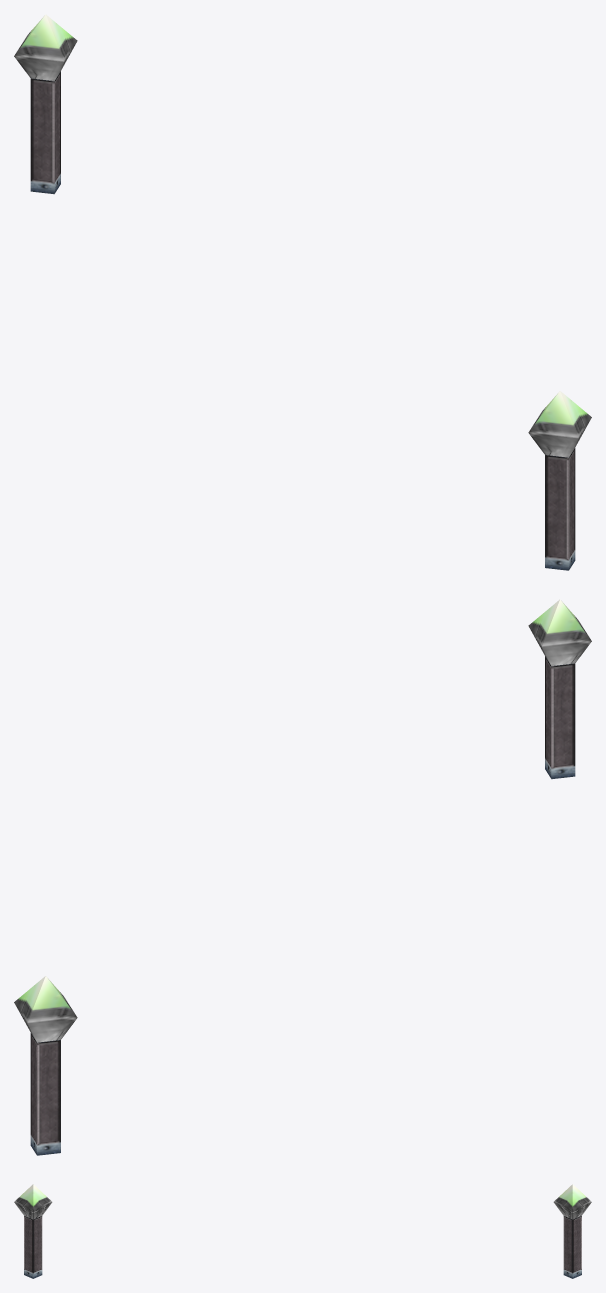
The model's file is tesla03.glb.
3 views of the same model, one above another, from view 1: azimuth 30°, elevation 25°; view 2: azimuth 150°, elevation 25°; view 3: azimuth 270°, elevation 25° (orthographic). The views are drawn at different scales.
Visible parts, largest first — view 1: tesla03; view 2: tesla03; view 3: tesla03.
Part boxes in pixels (x1,y1,x2,y2): tesla03: (14,14,591,570); tesla03: (14,599,591,1155); tesla03: (14,1184,591,1278).
Size of the model in its own units: 32.92 by 85.86 by 494.
Materials: 2 (2 with a texture image).
